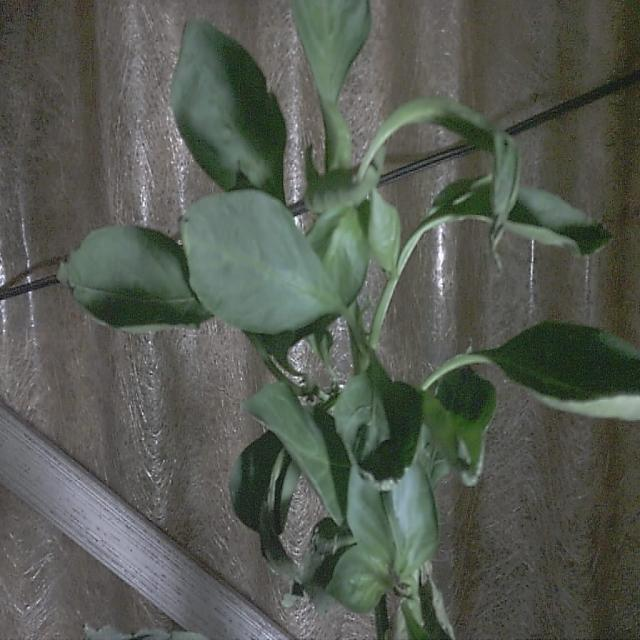Leaf: (180, 189, 334, 335), (169, 15, 286, 200), (54, 222, 214, 332), (493, 318, 640, 425), (328, 362, 424, 492)
